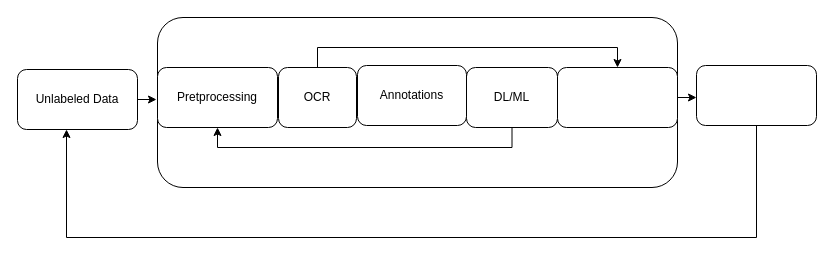
This 834x263 diagram has some shape labels left out. Here are the shapes that lost their labels. From the top down, the centre of each, then its label:
At pixel 617 97: "Posprocessing Rules".
At pixel 756 95: "Structured Data".
